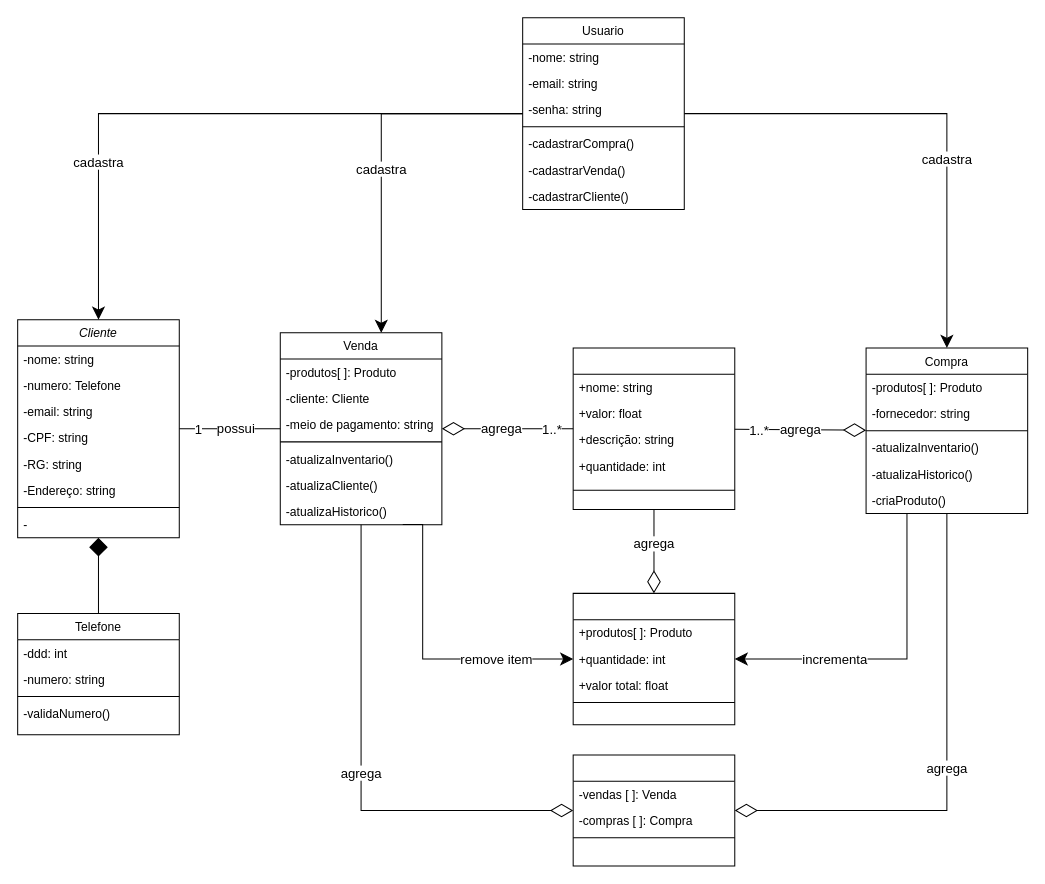
Image size: 1045x884. Some labels were removed from this diagram. The box of each missing label's shape, as (x1, y1, x2, y2) in pixels:
Historico: (572, 754, 735, 866)
Inventario: (572, 592, 735, 725)
Produto: (572, 347, 735, 510)
